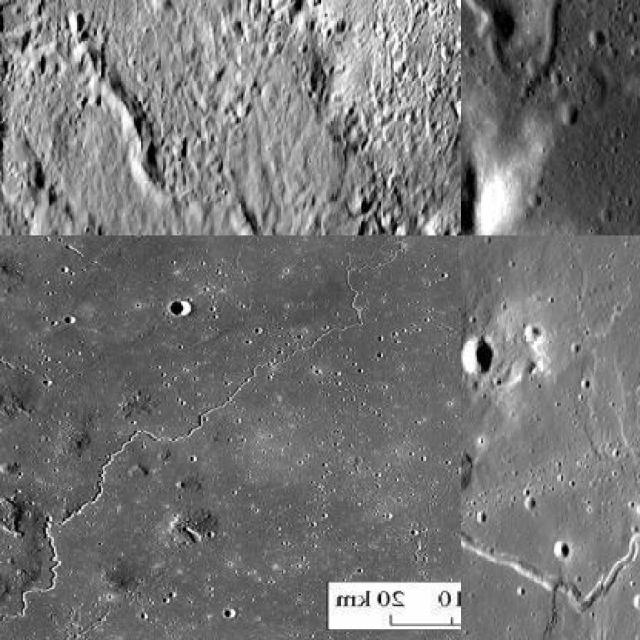rille: (0, 235, 454, 632), (68, 15, 402, 234), (460, 235, 638, 616), (460, 0, 638, 97), (343, 235, 417, 274)
